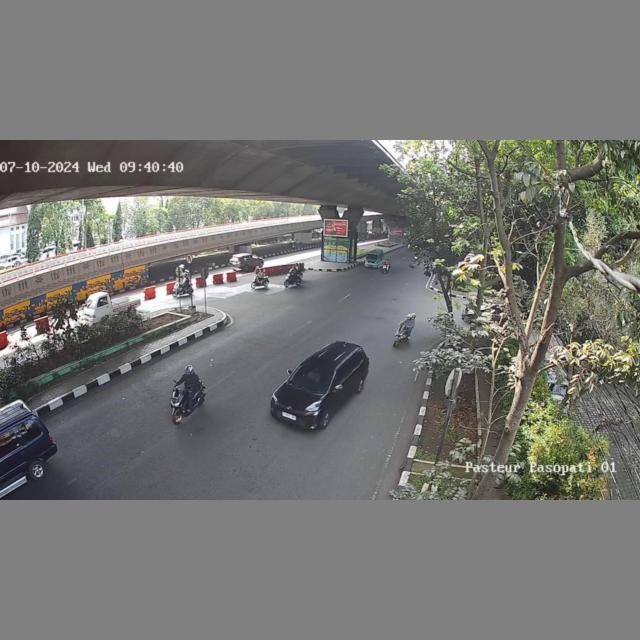windshield: (290, 361, 338, 395)
